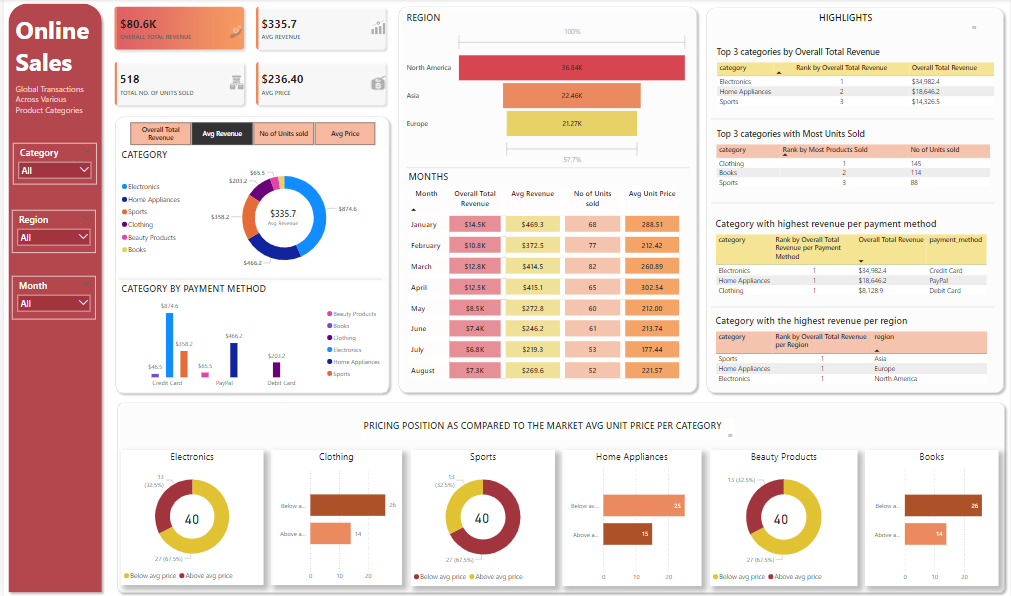

The page's visual inventory and layout, read from the dashboard file:
{"tool":"powerbi","page":{"name":"Page 1","canvas":[1400,800],"ordinal":0},"visuals":[{"type":"shape","box":[782.8,6,617.2,793.3],"z":0},{"type":"shape","box":[215.3,225.8,567.5,573.5],"z":1000},{"type":"shape","box":[0,0,204.7,799.4],"z":2000},{"type":"cardVisual","fields":{"Data":["view online_sales_sql.overall_revenue","view online_sales_sql.Avg Revenue","view online_sales_sql.No of Products sold","view online_sales_sql.Avg Price"]},"box":[204.7,0,578.1,225.8],"z":3000},{"type":"donutChart","title":"CATEGORY","fields":{"Y":["view online_sales_sql.Overall Total Revenue"],"Category":["view online_sales_sql.category"]},"box":[230.3,299.6,537.4,255.9],"z":4000},{"type":"clusteredColumnChart","title":"CATEGORY BY PAYMENT METHOD","fields":{"Y":["view online_sales_sql.Overall Total Revenue"],"Category":["view online_sales_sql.payment_method"],"Series":["view online_sales_sql.category"]},"box":[230.3,567.5,537.4,221.3],"z":6000},{"type":"slicer","fields":{"Values":["Metrics..Metrics."]},"box":[233.3,240.9,531.4,58.7],"z":7000},{"type":"funnel","title":"REGION","fields":{"Y":["Sum(view online_sales_sql.total_revenue)"],"Category":["view online_sales_sql.region"]},"box":[802.4,24.1,573.5,314.6],"z":8000},{"type":"slicer","fields":{"Values":["view online_sales_sql.order_date.Variation.Date Hierarchy.Month"]},"box":[18.1,477.2,167.1,78.3],"z":9000},{"type":"slicer","fields":{"Values":["view online_sales_sql.category"]},"box":[18.1,289,167.1,78.3],"z":10000},{"type":"slicer","fields":{"Values":["view online_sales_sql.region"]},"box":[18.1,385.4,167.1,76.8],"z":11000},{"type":"textbox","box":[18.1,24.1,167.1,140],"z":12000},{"type":"textbox","box":[18.1,164.1,167.1,76.8],"z":13000},{"type":"shape","box":[230.3,555.5,526.9,12],"z":14000},{"type":"pivotTable","title":"MONTHS","fields":{"Rows":["view online_sales_sql.order_date.Variation.Date Hierarchy.Month"],"Values":["view online_sales_sql.Overall Total Revenue","view online_sales_sql.Avg Revenue","view online_sales_sql.No of Units sold","view online_sales_sql.Avg Unit Price"]},"box":[806.9,343.2,569,423],"z":15000},{"type":"shape","box":[806.9,325.2,569,27.1],"z":16000},{"type":"cardVisual","fields":{"Data":["view online_sales_sql.Overall Total Revenue"]},"box":[499.8,400.4,120.4,73.8],"z":16500}]}

Visuals, with their boxes on the page's 1400x800 design canvas (x1, y1, x2, y2). These are canvas units, not pixel positions in the 1011x596 screenshot, which may show the page scaled, cropped or inside an application window:
shape: bbox=[783, 6, 1400, 799]
shape: bbox=[215, 226, 783, 799]
shape: bbox=[0, 0, 205, 799]
cardVisual - view online_sales_sql.overall_revenue x view online_sales_sql.Avg Revenue: bbox=[205, 0, 783, 226]
"CATEGORY" donutChart: bbox=[230, 300, 768, 556]
"CATEGORY BY PAYMENT METHOD" clusteredColumnChart: bbox=[230, 568, 768, 789]
slicer - Metrics..Metrics.: bbox=[233, 241, 765, 300]
"REGION" funnel: bbox=[802, 24, 1376, 339]
slicer - view online_sales_sql.order_date.Variation.Date Hierarchy.Month: bbox=[18, 477, 185, 556]
slicer - view online_sales_sql.category: bbox=[18, 289, 185, 367]
slicer - view online_sales_sql.region: bbox=[18, 385, 185, 462]
textbox: bbox=[18, 24, 185, 164]
textbox: bbox=[18, 164, 185, 241]
shape: bbox=[230, 556, 757, 568]
"MONTHS" pivotTable: bbox=[807, 343, 1376, 766]
shape: bbox=[807, 325, 1376, 352]
cardVisual - view online_sales_sql.Overall Total Revenue: bbox=[500, 400, 620, 474]
